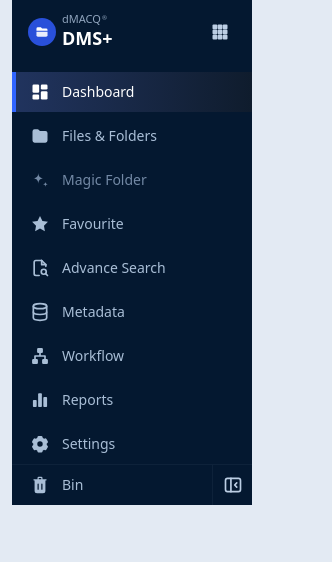
Test: Magic Folder › keeps its name on the rail when the sidebar is collapsed
Click the button named "Collapse sidebar" at (232, 485), box [212,465,252,505]
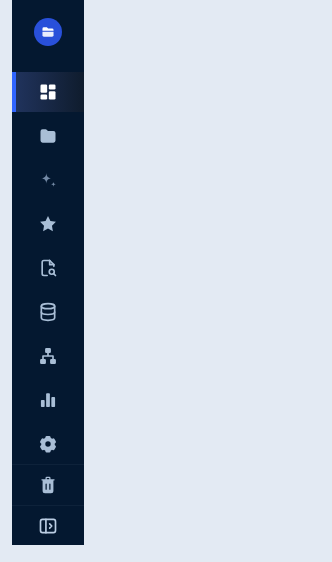
Focus the 3rd link named "Magic Folder" at (48, 180), box [12,160,84,200]
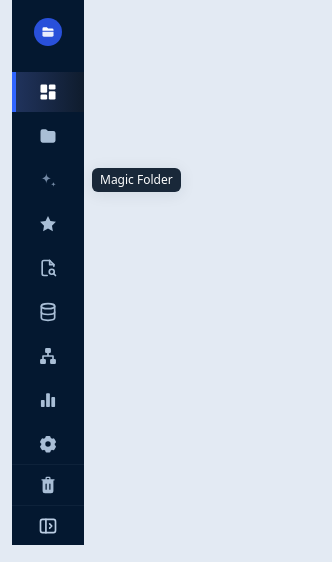
Check: the text with test id "sidebar-tooltip" reads "Magic Folder", box [100,171,173,188]
